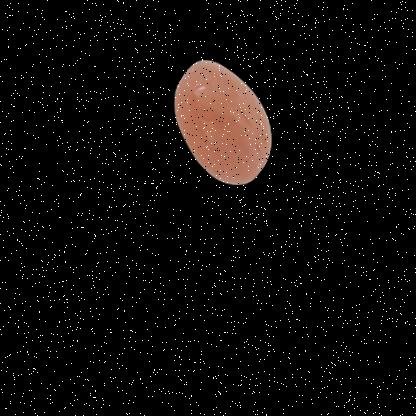opiqutan: (155, 35, 299, 236)
